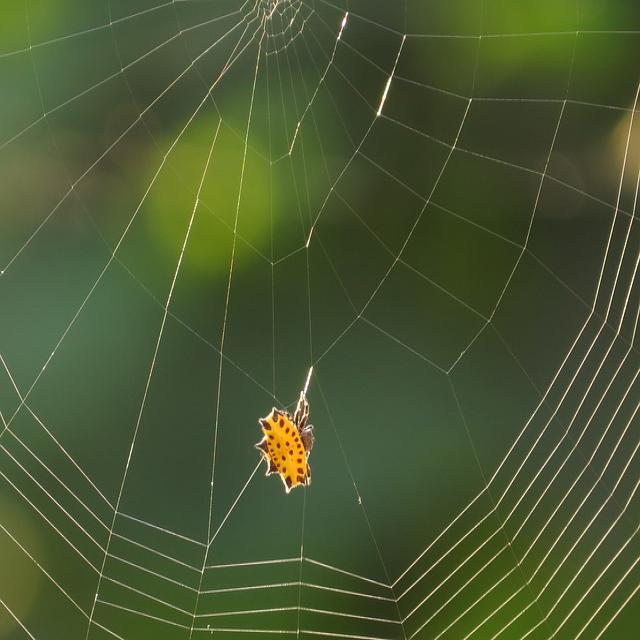spyder: (255, 368, 314, 492)
